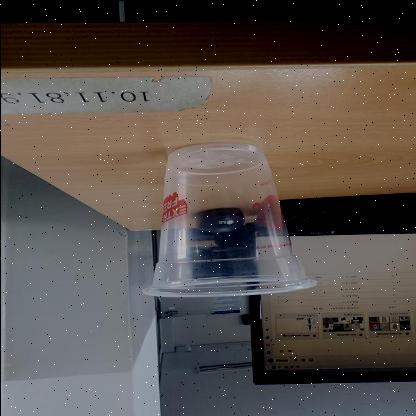Others: (142, 140, 314, 298)
